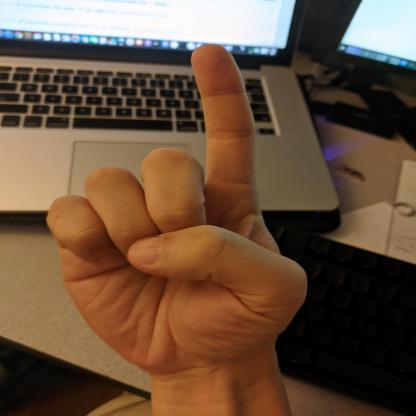D: (46, 44, 307, 381)
